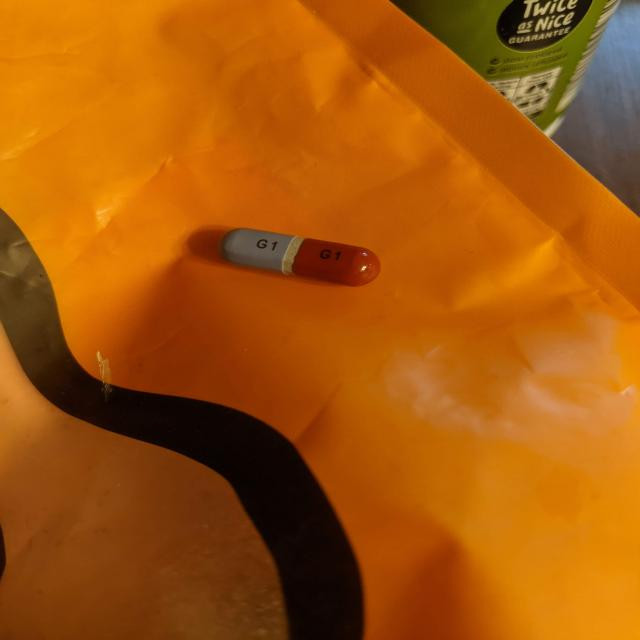non-organic waste: (216, 225, 384, 290)
